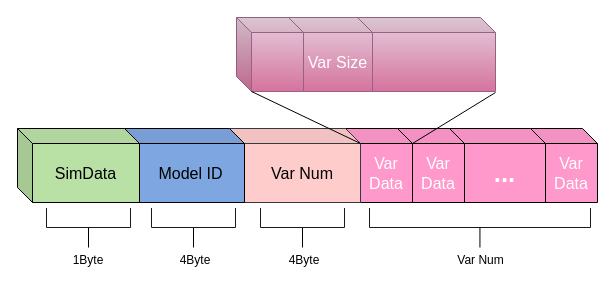
The diagram is 615 pixels wide and 288 high, and some of its shapes have lost their labels. Here are the shapes that lost their labels. From the top down, the box of each, then its label:
(236, 16, 304, 92): Var ID
(356, 16, 496, 92): Var Value
